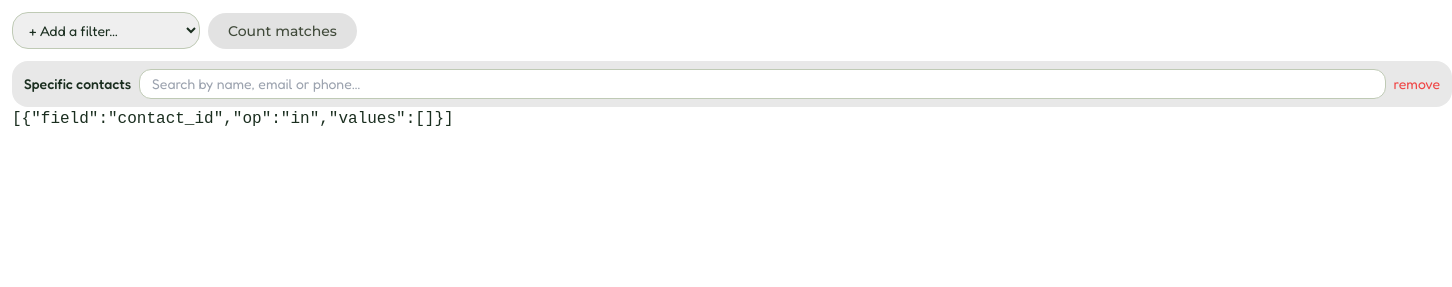
Test: SegmentBuilder contact picker › searches, flags unsendable, disables their Add, adds sendable as a chip
Type "a" into the search field with placeholder "Search by name, email or phone…". click: (762, 84)
box: x1=139 y1=69 x2=1386 y2=99
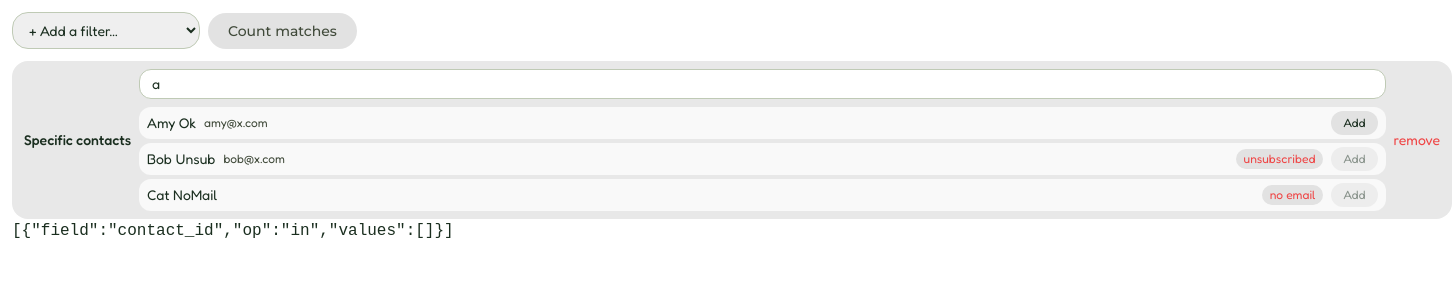
expect the text "Amy Ok" is shown: met, box x1=147 y1=113 x2=196 y2=133
expect the text "unsubscribed" is shown: met, box x1=1236 y1=149 x2=1324 y2=169
expect the text "no email" is shown: met, box x1=1262 y1=185 x2=1324 y2=205
Click the button "Add" in the row of "Amy Ok". click: (1354, 123)
box: x1=1332 y1=111 x2=1378 y2=135
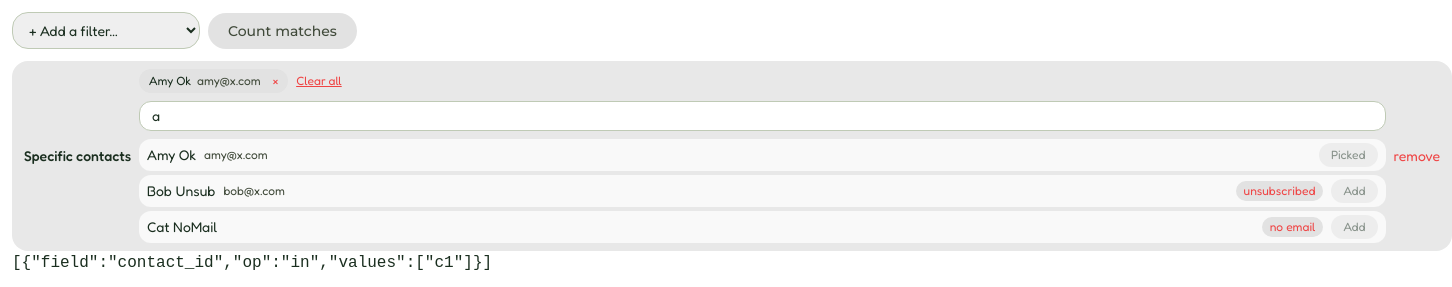
expect the button named "Remove Amy Ok" is shown: met, box x1=267 y1=73 x2=284 y2=89
